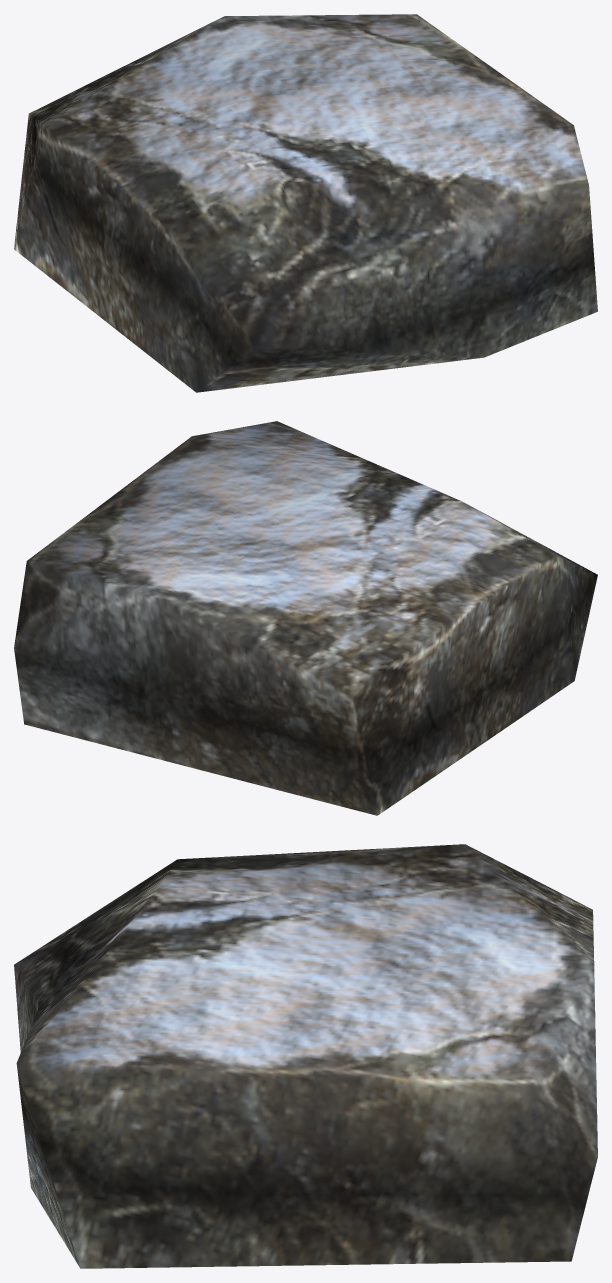
File: Staits1D_LOD.fbx
The picture shows the model from 3 angles, top to bottom: view 1: azimuth 30°, elevation 25°; view 2: azimuth 150°, elevation 25°; view 3: azimuth 270°, elevation 25°; orthographic projection. The views are drawn at different scales.
Parts seen in each view (by area): view 1: polySurface25; view 2: polySurface25; view 3: polySurface25.
Boxes of the visible parts, bbox=[...] form: polySurface25: bbox=[14, 14, 597, 392]; polySurface25: bbox=[14, 421, 597, 815]; polySurface25: bbox=[14, 844, 597, 1268].
Size of the model in its own units: 1.49 by 0.627 by 1.57.
